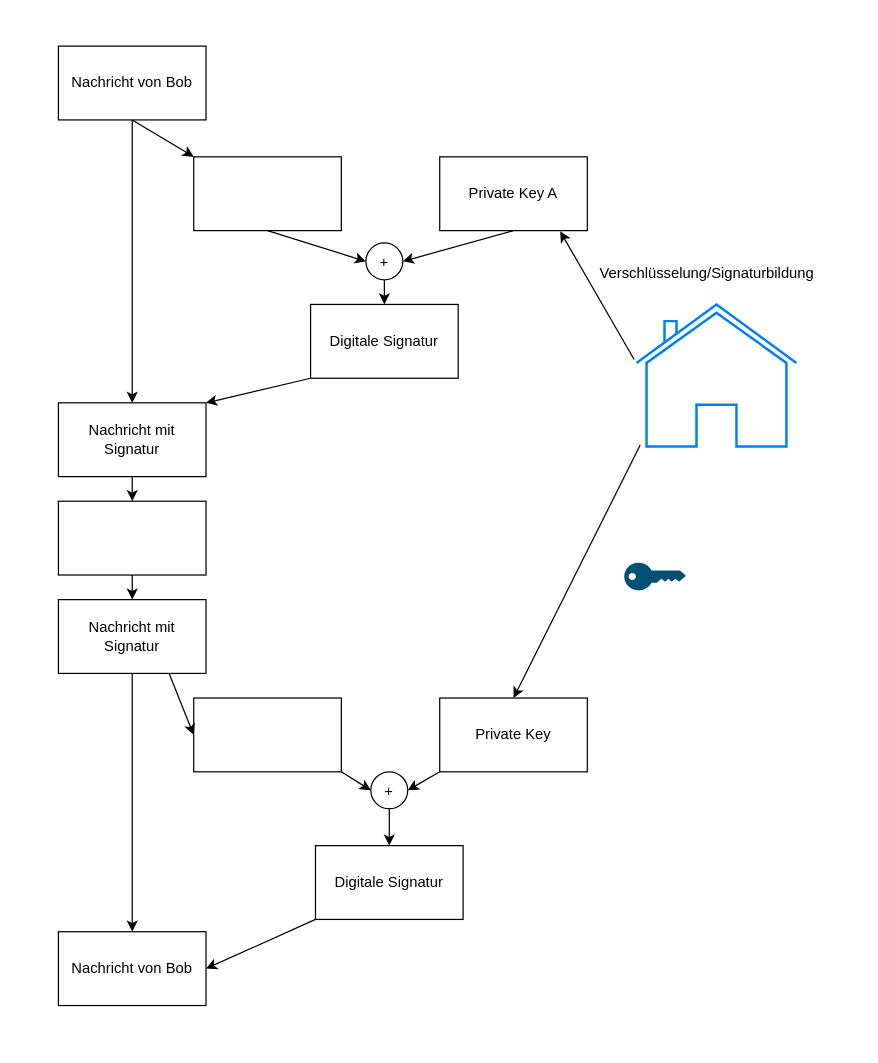
Some shapes in this 878 by 1063 pixel diagram are drawn without their labels. Here are the shapes that lost their labels. From the top down, the centre of each, then its label:
(266,193): HASHwert
(716,375): CA (Trustcenter)
(131,537): Übermittlung an Empfänger
(266,734): Signatur
